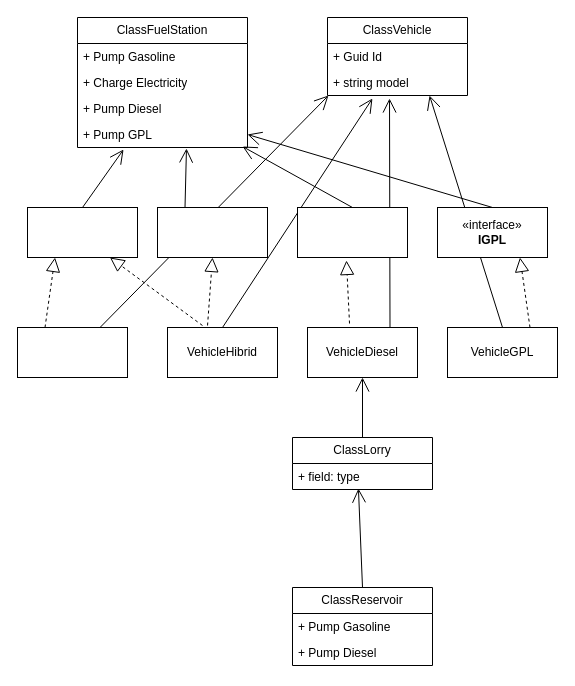
Image size: 575x686. Some labels were removed from this diagram. Here are the shapes that lost their labels. From the top down, the centre of each, then its label:
point (82, 232): «interface» IGasoline
point (212, 232): «interface» IElectric
point (352, 232): «interface» IDiesel
point (72, 352): VehicleGasoline
